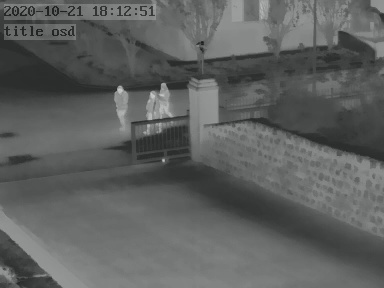person: (140, 89, 161, 136), (111, 83, 129, 133), (159, 78, 174, 119)
